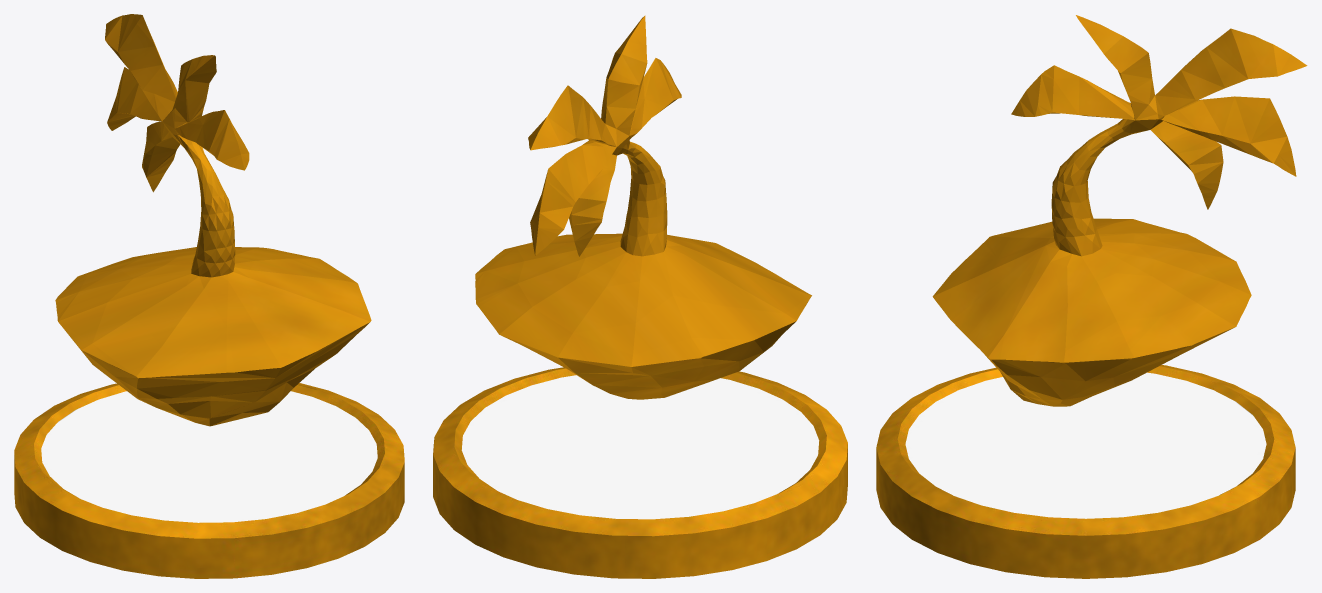
File: goldPalm.gltf
3 renders of one model, left to right at view 1: azimuth 30°, elevation 25°; view 2: azimuth 150°, elevation 25°; view 3: azimuth 270°, elevation 25°, orthographic. The views are drawn at different scales.
Visible parts, largest first — view 1: Stand, Palm; view 2: Stand, Palm; view 3: Stand, Palm.
Part boxes in pixels (x1,y1,x2,y2): Stand: [14, 383, 404, 578]; Palm: [55, 14, 371, 426]; Stand: [433, 367, 847, 578]; Palm: [475, 15, 811, 399]; Stand: [876, 365, 1295, 578]; Palm: [932, 15, 1307, 406].
Bounding box in the file's own units: 0.1547 × 0.1974 × 0.1591.
Materials: 1 (1 with a texture image).
